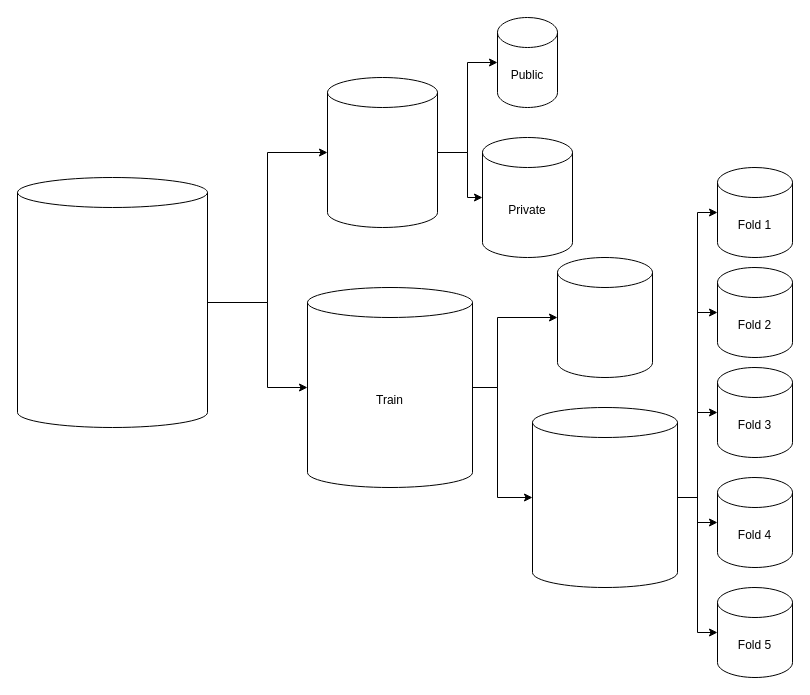
Image size: 810x695. Some labels were removed from this diagram. Here are the shapes that lost their labels. From the top down, the centre of each, then its label:
the point at 382,152: Kaggle Tests
the point at 112,302: All Data
the point at 604,317: Holdout
the point at 605,497: Training Folds
